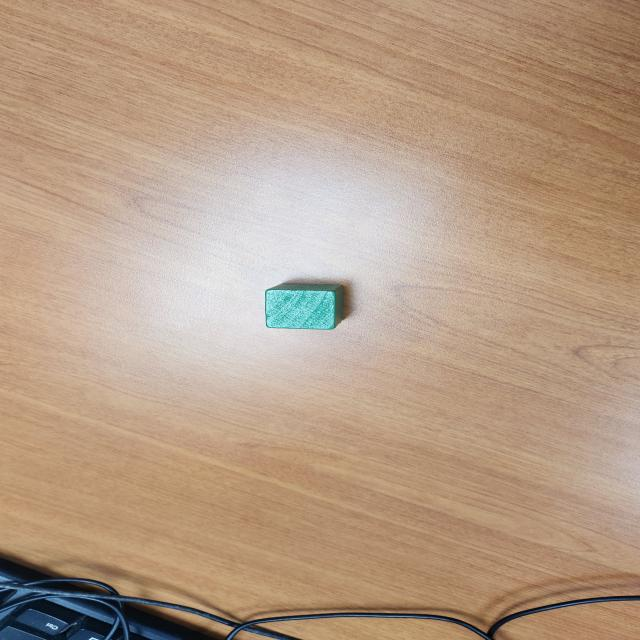green: (258, 282, 346, 330)
